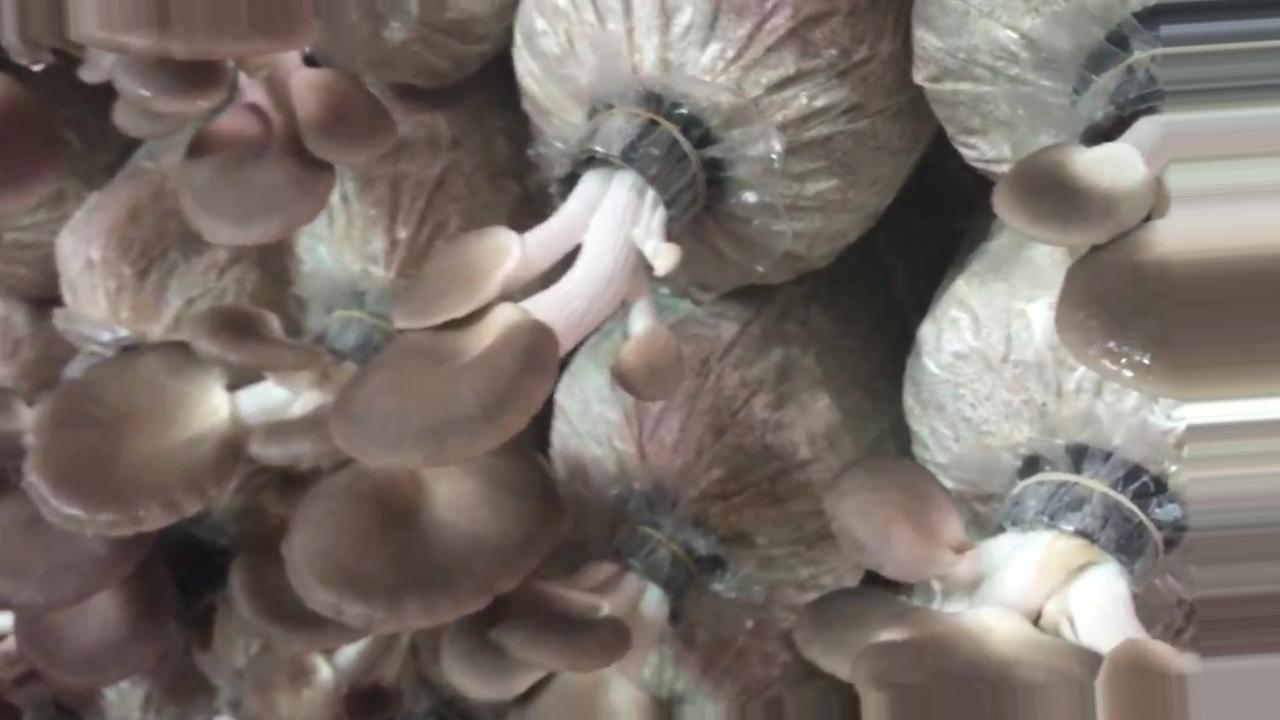nam: (30, 280, 575, 637), (327, 93, 731, 470), (788, 437, 1193, 720), (993, 32, 1280, 396), (102, 59, 405, 249), (441, 525, 730, 720)
